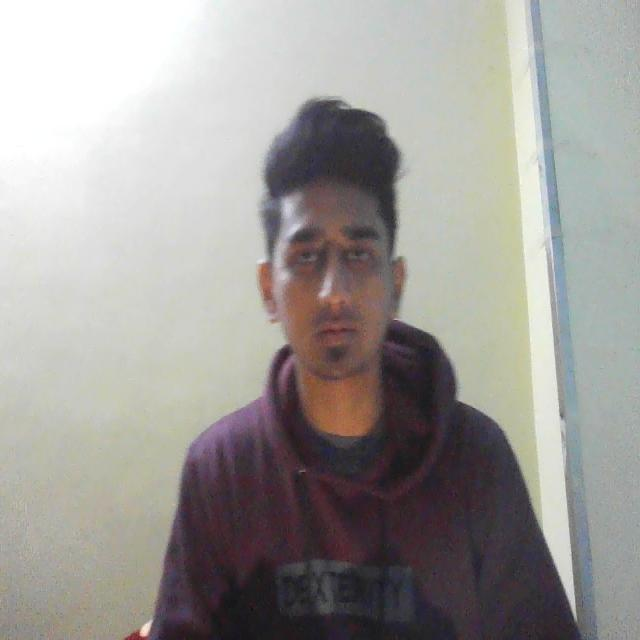real: (259, 111, 415, 405)
